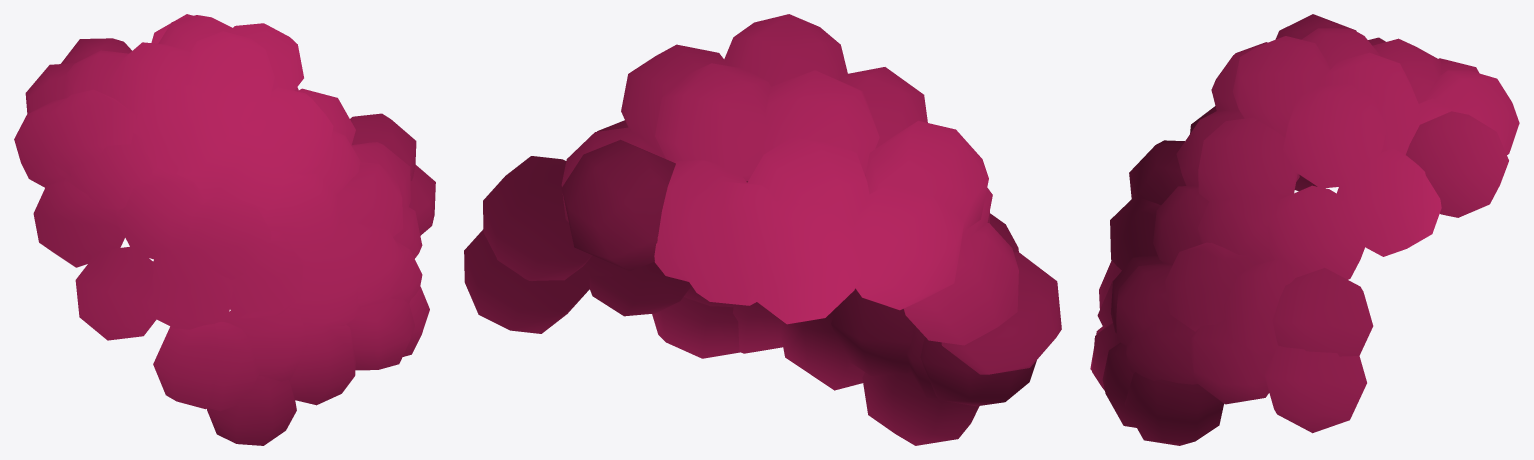
The model's file is tree_6.fbx.
3 views of the same model, side by side, from view 1: azimuth 30°, elevation 25°; view 2: azimuth 150°, elevation 25°; view 3: azimuth 270°, elevation 25° (orthographic). The views are drawn at different scales.
Parts seen in each view (by area): view 1: h; view 2: h; view 3: h.
Part boxes in pixels (bbox=[...]): h: bbox=[14, 14, 435, 445]; h: bbox=[464, 14, 1061, 445]; h: bbox=[1090, 14, 1519, 445].
Size of the model in its own units: 115 by 98.22 by 98.43.
